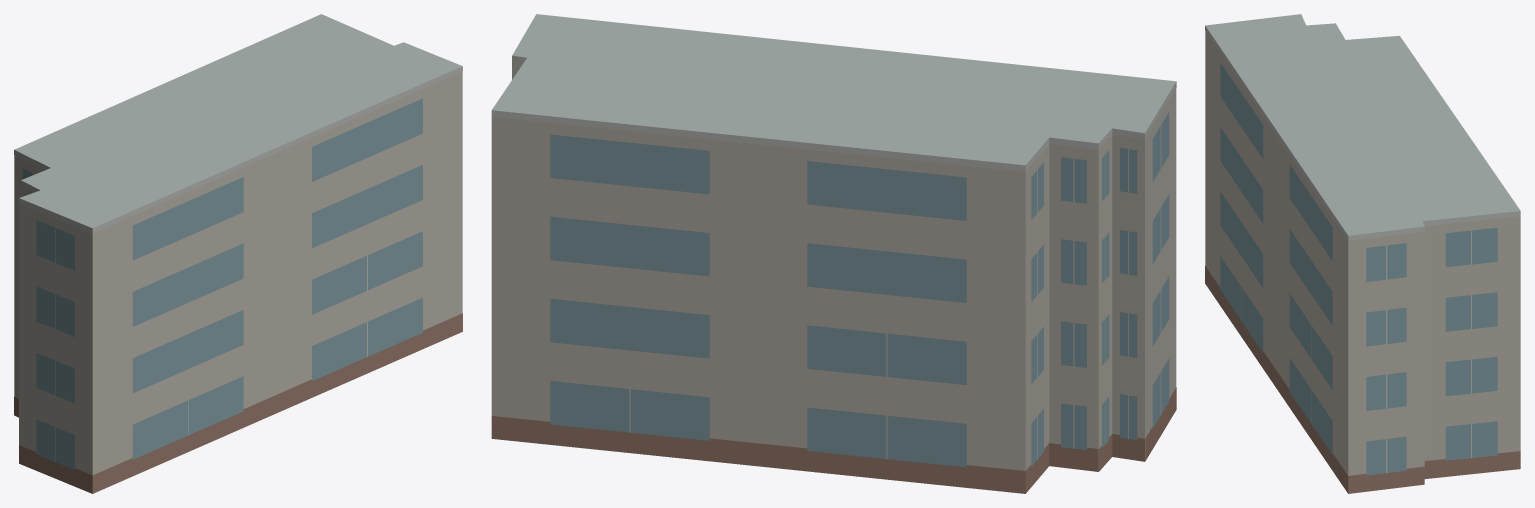
Rendered from survey-upis-32672629.glb.
3 views of the same model, side by side, from view 1: azimuth 30°, elevation 25°; view 2: azimuth 150°, elevation 25°; view 3: azimuth 270°, elevation 25° (orthographic). The views are drawn at different scales.
Visible parts, largest first — view 1: survey-upis-32672629.tmp; view 2: survey-upis-32672629.tmp; view 3: survey-upis-32672629.tmp.
Part boxes in pixels (left/top/right/bottom): survey-upis-32672629.tmp: left=14, top=14, right=462, bottom=493; survey-upis-32672629.tmp: left=491, top=14, right=1176, bottom=493; survey-upis-32672629.tmp: left=1205, top=14, right=1520, bottom=493.
Bounding box in the file's own units: 22.5 × 12.2 × 13.53.
